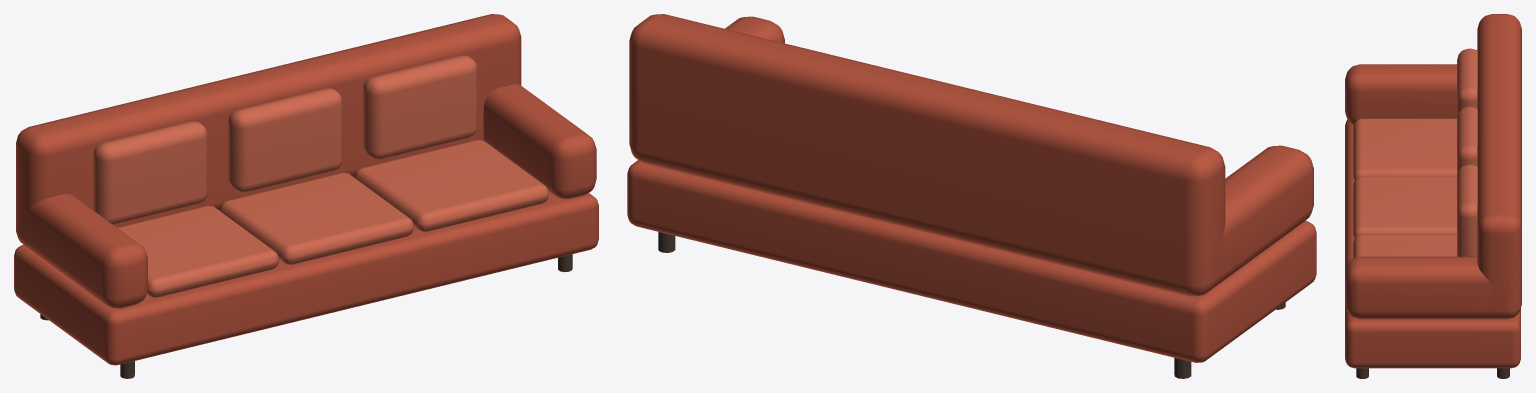
Rendered from couch.glb.
3 renders of one model, left to right at view 1: azimuth 30°, elevation 25°; view 2: azimuth 150°, elevation 25°; view 3: azimuth 270°, elevation 25°, orthographic. The views are drawn at different scales.
Parts seen in each view (by area): view 1: arm_-1, pillow_-1, foot_-1_-1; view 2: arm_-1, foot_-1_-1; view 3: arm_-1, pillow_-1, foot_-1_-1.
Boxes of the visible parts, x1,y1,x2,y2 form: arm_-1: [14, 14, 598, 365]; pillow_-1: [93, 55, 548, 297]; foot_-1_-1: [40, 254, 572, 378]; arm_-1: [627, 14, 1316, 362]; foot_-1_-1: [658, 232, 1285, 378]; arm_-1: [1345, 14, 1521, 368]; pillow_-1: [1353, 48, 1477, 258]; foot_-1_-1: [1356, 368, 1509, 378].
Size of the model in its own units: 2.7 by 1 by 0.955.
